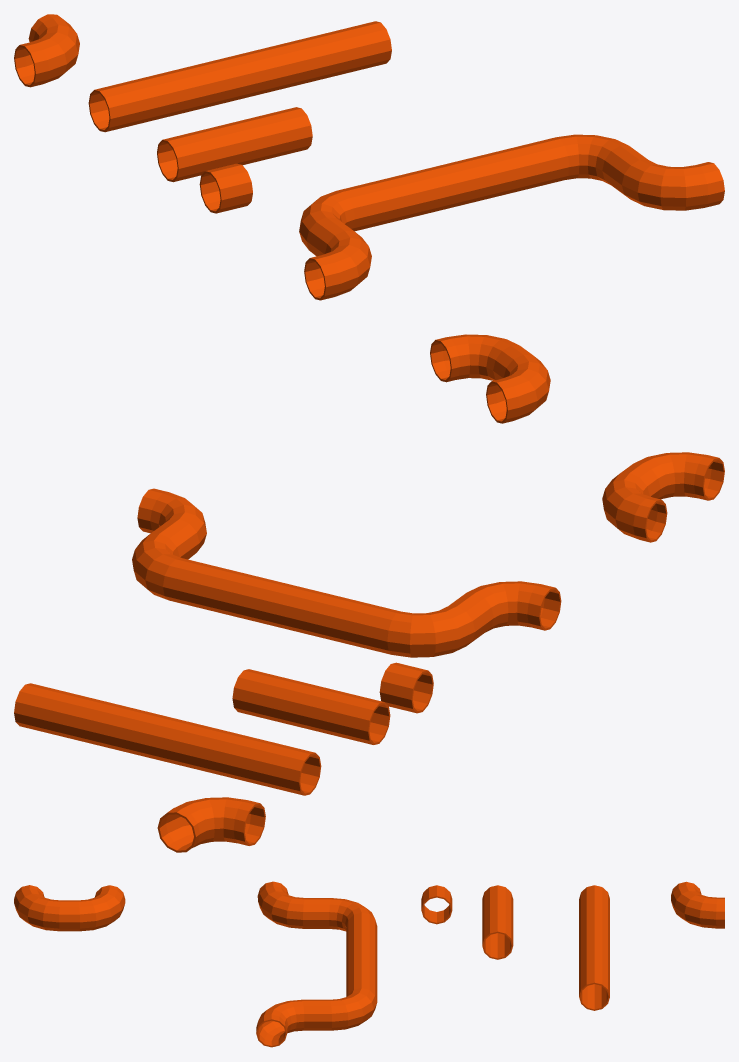
Rendered from Pipes Single Assets.fbx.
3 views of the same model, one above another, from view 1: azimuth 30°, elevation 25°; view 2: azimuth 150°, elevation 25°; view 3: azimuth 270°, elevation 25° (orthographic). The views are drawn at different scales.
Parts seen in each view (by area): view 1: pipeMan, pipelonger, pipelong, pipeLoop, pipecorner, pipeShort; view 2: pipeMan, pipelonger, pipelong, pipeLoop, pipecorner, pipeShort; view 3: pipeMan, pipeLoop, pipelonger, pipelong, pipecorner, pipeShort.
Part boxes in pixels (x1,y1,x2,y2): pipeMan: [299, 134, 724, 300]; pipelonger: [88, 21, 391, 132]; pipelong: [157, 107, 312, 182]; pipeLoop: [430, 334, 550, 423]; pipecorner: [14, 14, 79, 87]; pipeShort: [199, 163, 252, 213]; pipeMan: [132, 488, 561, 657]; pipelonger: [14, 683, 321, 795]; pipelong: [232, 669, 390, 744]; pipeLoop: [602, 452, 724, 542]; pipecorner: [157, 797, 265, 852]; pipeShort: [379, 662, 433, 713]; pipeMan: [256, 881, 377, 1047]; pipeLoop: [14, 885, 125, 931]; pipelonger: [579, 885, 609, 1010]; pipelong: [482, 885, 513, 959]; pipecorner: [671, 881, 724, 928]; pipeShort: [421, 885, 452, 924].
Size of the model in its own units: 20.95 by 2 by 45.68.
